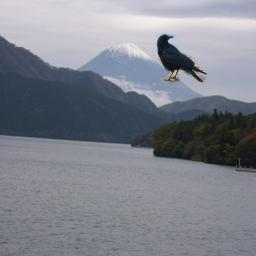Crow: (156, 32, 207, 84)
